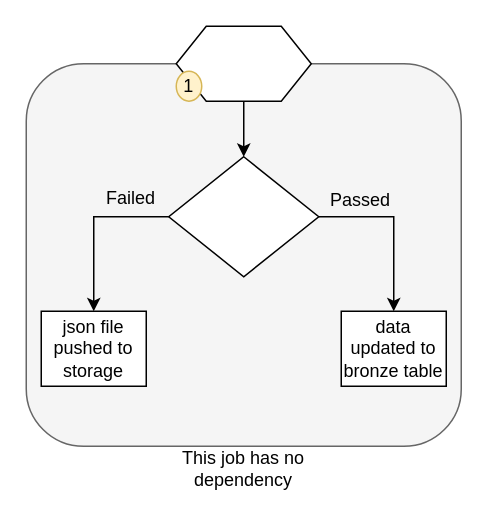
Image size: 488x518. Some labels were removed from this diagram. The box of each missing label's shape, as (x1, y1, x2, y2) in pixels:
data load + cleanup: (175, 25, 311, 101)
File+Schema Validation: (167, 155, 319, 277)
